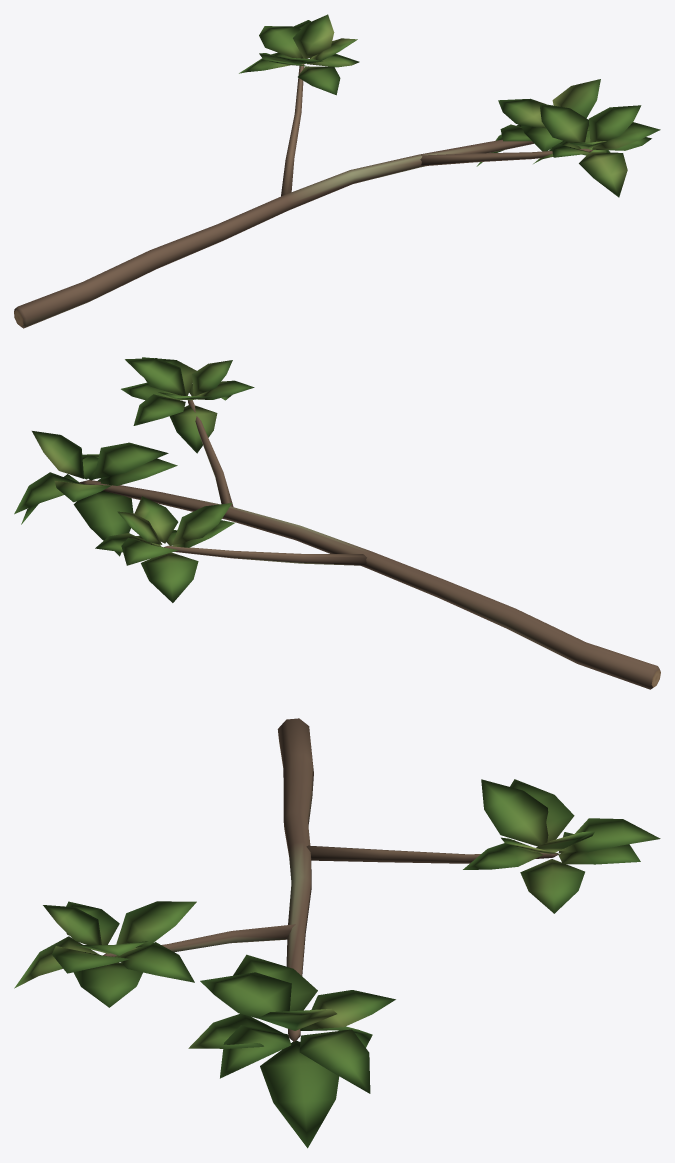
The model's file is branch.glb.
The picture shows the model from 3 angles, top to bottom: view 1: azimuth 30°, elevation 25°; view 2: azimuth 150°, elevation 25°; view 3: azimuth 270°, elevation 25°; orthographic projection. The views are drawn at different scales.
Visible parts, largest first — view 1: branch; view 2: branch; view 3: branch.
Boxes of the visible parts, <box> form: branch: <box>14,14,660,328</box>; branch: <box>14,357,660,689</box>; branch: <box>14,718,660,1148</box>.
Size of the model in its own units: 1.07 by 0.2427 by 0.6972.
